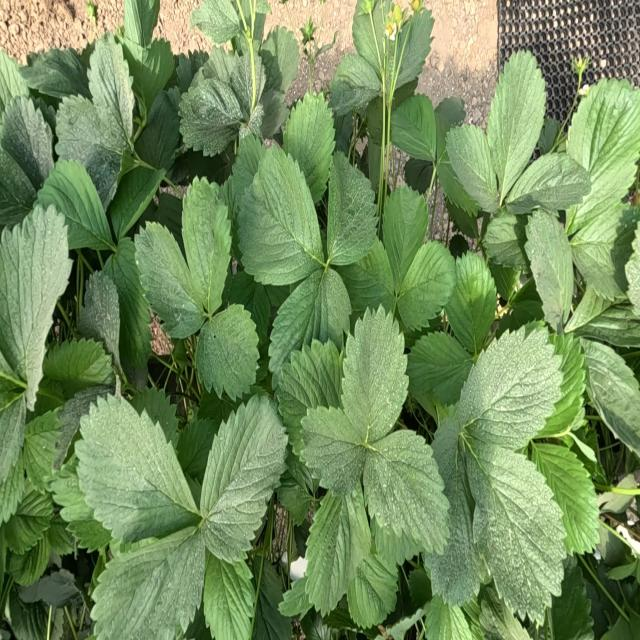Leaves: (76, 397, 195, 543), (467, 446, 566, 621), (200, 395, 287, 561), (1, 207, 71, 405), (92, 523, 205, 639), (456, 325, 563, 447), (234, 141, 322, 285), (565, 76, 639, 240), (423, 418, 481, 605), (364, 431, 449, 556), (342, 306, 407, 444), (268, 274, 349, 380), (487, 50, 545, 197), (306, 486, 371, 615), (56, 95, 123, 211), (276, 339, 342, 453), (136, 224, 202, 337), (102, 239, 151, 386), (353, 2, 430, 95), (579, 338, 639, 455), (182, 176, 230, 314), (39, 160, 107, 249), (525, 211, 574, 330), (196, 306, 259, 398), (88, 32, 135, 154), (284, 93, 335, 203), (327, 153, 377, 265), (301, 405, 363, 493), (445, 251, 497, 352), (397, 240, 455, 328), (505, 152, 590, 212), (179, 77, 244, 155), (445, 124, 500, 213), (407, 331, 471, 407), (1, 96, 53, 188), (383, 185, 427, 290), (203, 551, 255, 639), (542, 334, 585, 436), (80, 271, 121, 376), (43, 338, 112, 399), (337, 239, 394, 311), (110, 167, 163, 240), (122, 38, 175, 109), (348, 555, 398, 629), (177, 418, 221, 501), (21, 48, 90, 99), (393, 8, 434, 92), (136, 91, 179, 169), (4, 488, 52, 553), (329, 53, 379, 115), (24, 410, 62, 490), (551, 563, 591, 639), (0, 145, 36, 228), (230, 53, 266, 135), (391, 94, 435, 160), (50, 457, 93, 522), (483, 209, 526, 271), (262, 26, 299, 91), (371, 517, 420, 566), (19, 569, 78, 607), (1, 397, 26, 482), (424, 595, 472, 639), (10, 534, 51, 585), (191, 0, 239, 43), (7, 588, 47, 639), (124, 1, 159, 47), (1, 48, 27, 107), (280, 577, 311, 616), (46, 516, 73, 555), (404, 158, 432, 191)
Strawberries: (572, 56, 589, 97), (385, 4, 403, 40), (412, 0, 421, 10)
